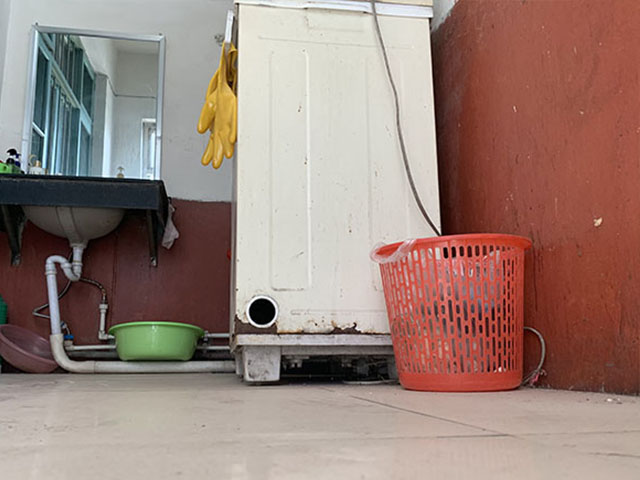trashcan: (369, 232, 535, 393)
